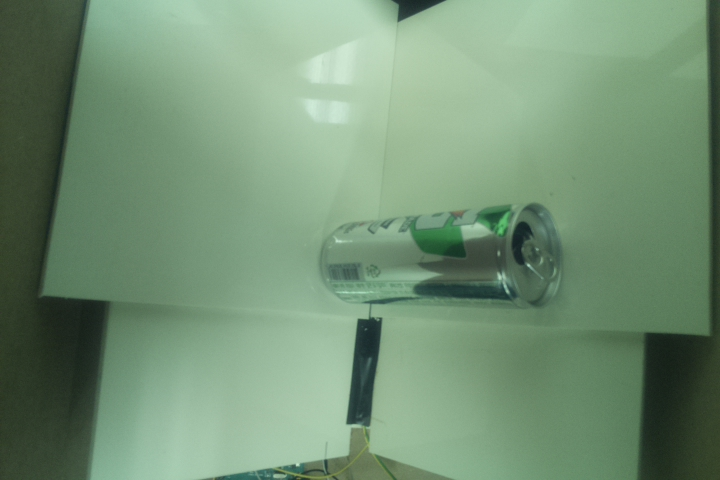can: (318, 200, 563, 310)
